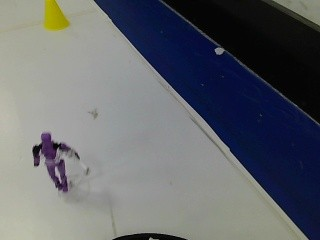cone: (38, 0, 73, 30)
pedestrian: (22, 125, 89, 195)
